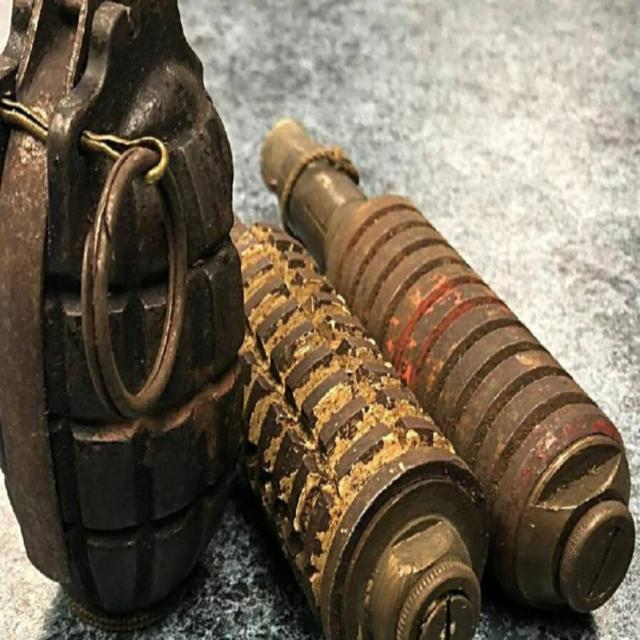grenade: (1, 1, 247, 629)
